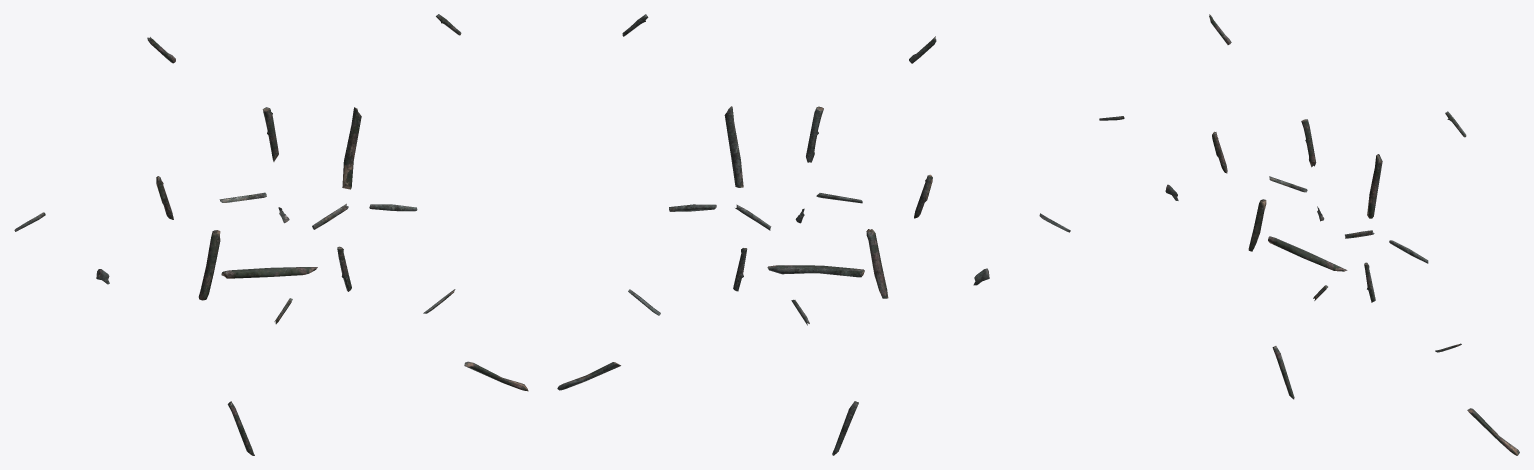
File: hd_dec_AM_005_BranchesSwamp_02.glb
The picture shows the model from 3 angles, left to right: view 1: azimuth 30°, elevation 25°; view 2: azimuth 150°, elevation 25°; view 3: azimuth 330°, elevation 25°; orthographic projection. The views are drawn at different scales.
Parts seen in each view (by area): view 1: set_0_group_0; view 2: set_0_group_0; view 3: set_0_group_0.
Part boxes in pixels (x1,y1,x2,y2): set_0_group_0: (14, 14, 528, 455); set_0_group_0: (557, 14, 1070, 455); set_0_group_0: (1099, 14, 1519, 455).
Size of the model in its own units: 7.92 by 6.59 by 0.1617.
1 material, 1 textured.
